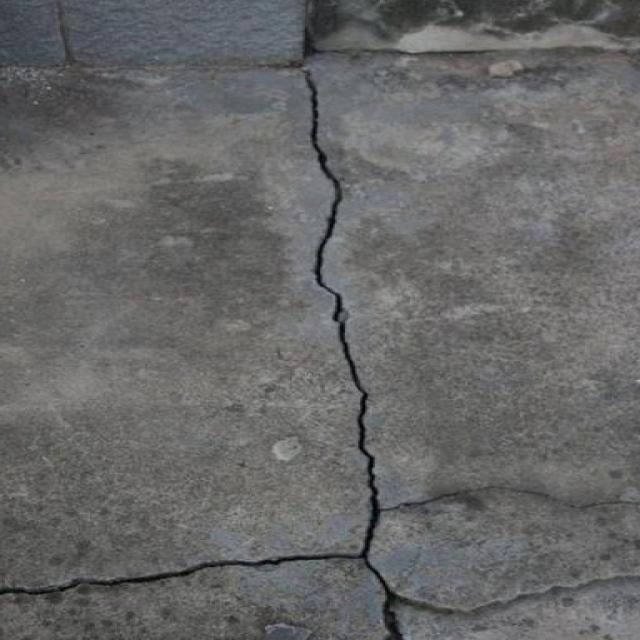crack: (1, 550, 638, 635), (292, 67, 387, 550), (387, 486, 638, 548)
